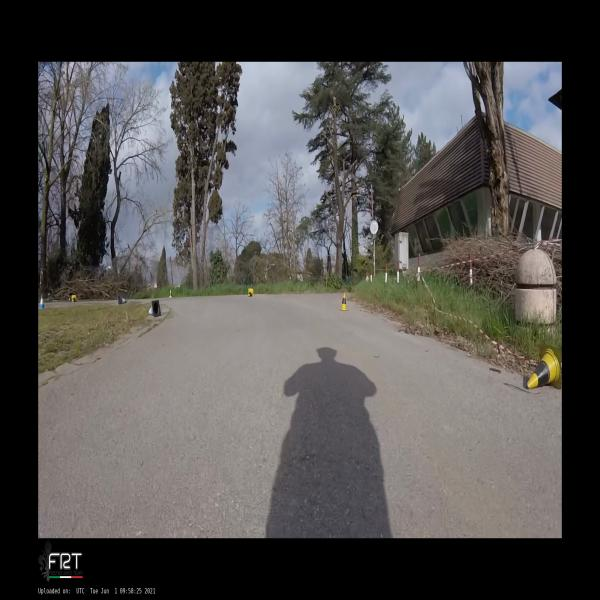blue_cone: (149, 300, 162, 317), (39, 294, 46, 309), (118, 295, 127, 305)
yellow_cone: (527, 344, 561, 390), (338, 293, 348, 311), (248, 288, 254, 296), (72, 294, 76, 301)
